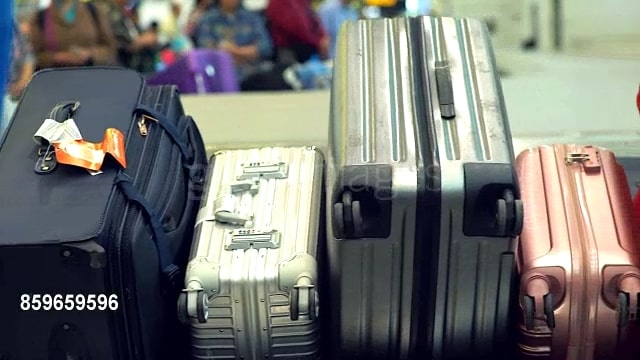baggage: (324, 12, 520, 353), (3, 63, 210, 360), (179, 141, 326, 360), (507, 139, 640, 359)
